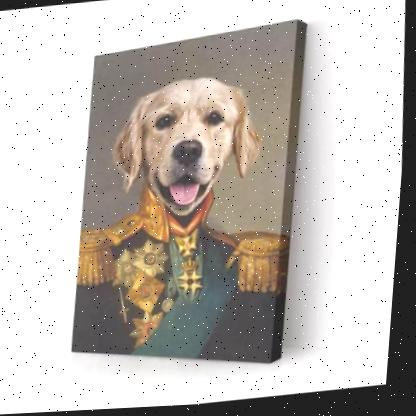dog: (97, 66, 272, 229)
person: (57, 207, 296, 366)
